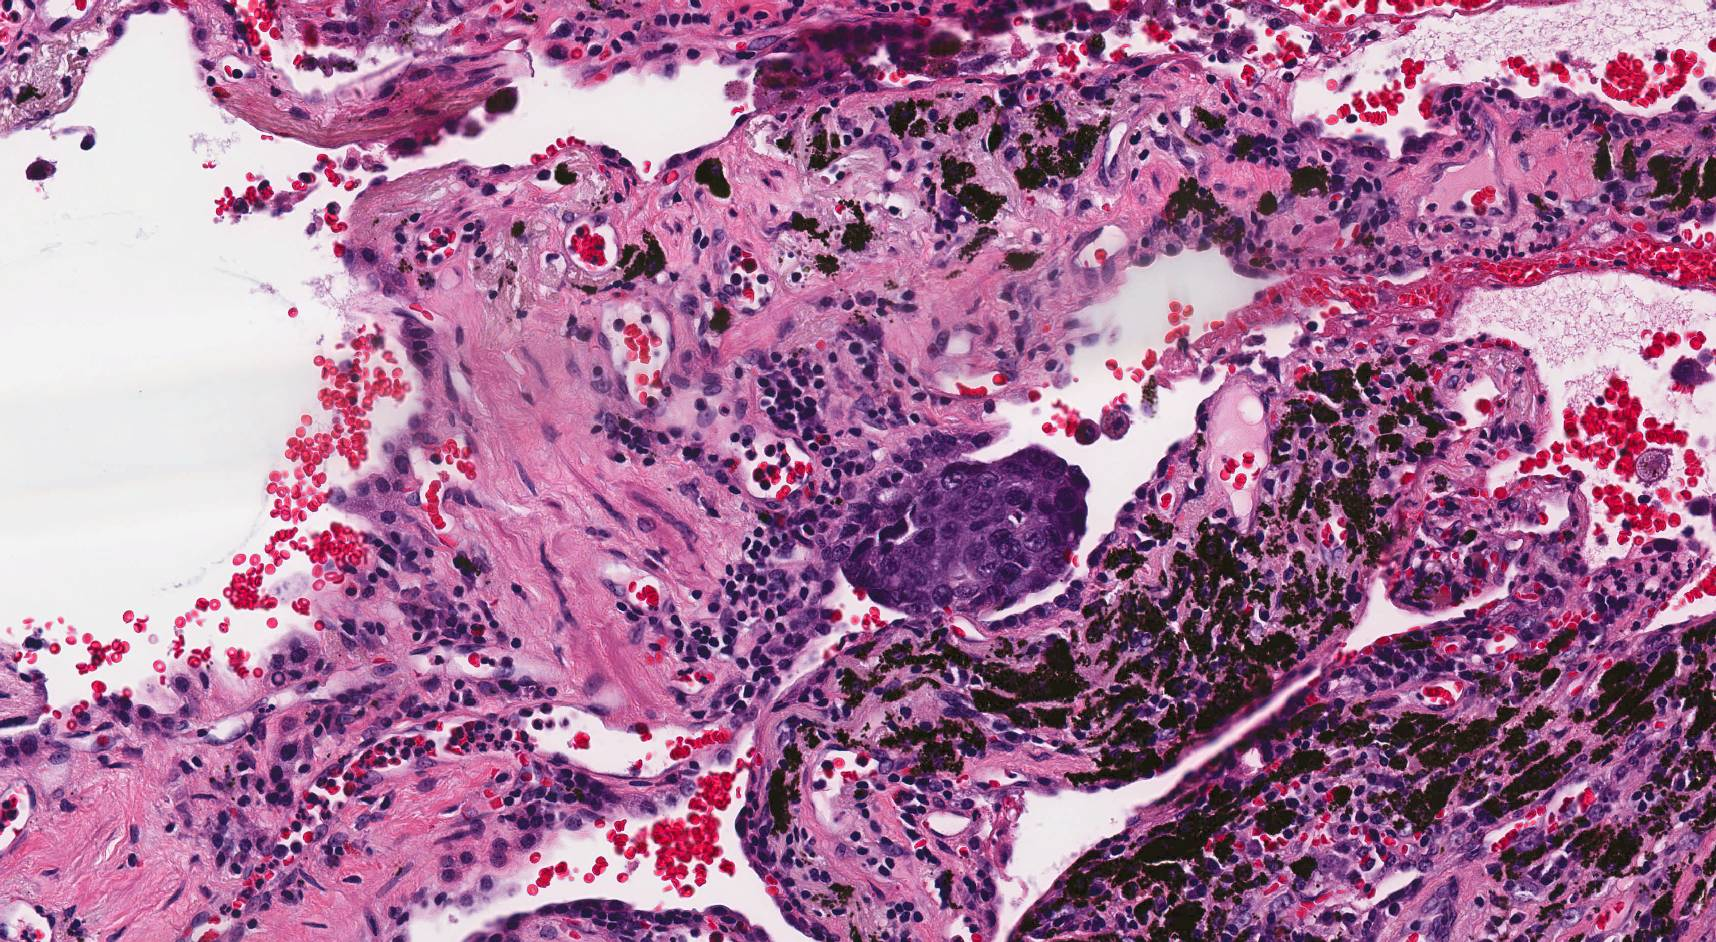stas: (839, 446, 1093, 611)
